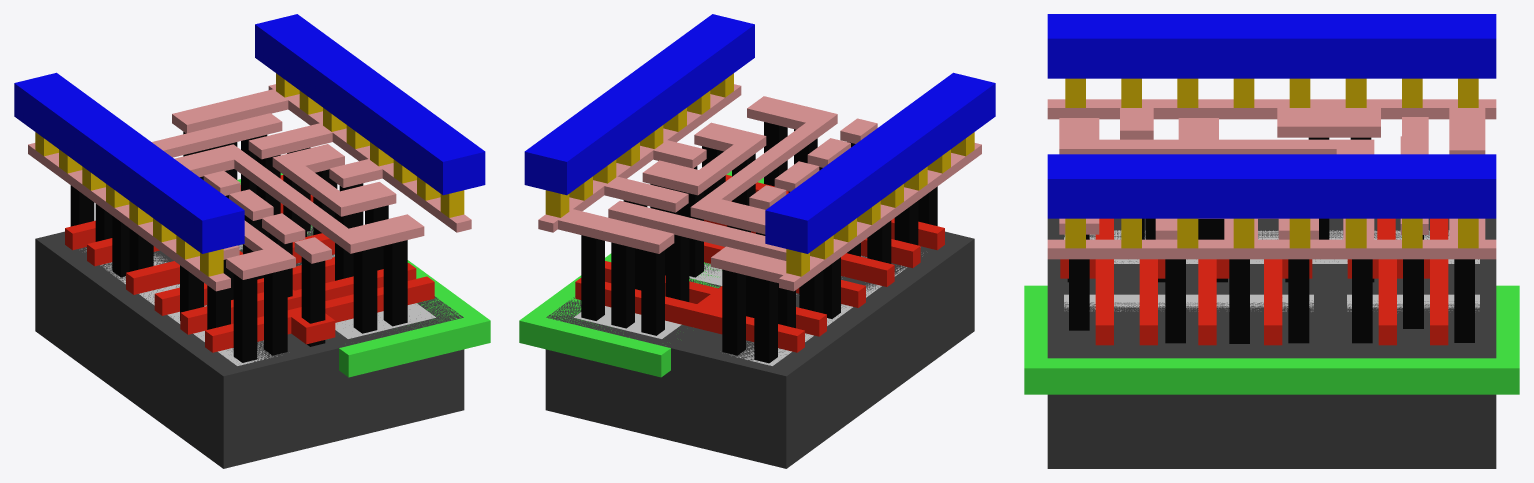
The model's file is sky130_fd_sc_hd__a211o_2.obj.
The picture shows the model from 3 angles, left to right: view 1: azimuth 30°, elevation 25°; view 2: azimuth 150°, elevation 25°; view 3: azimuth 270°, elevation 25°; orthographic projection. The views are drawn at different scales.
Visible parts, largest first — view 1: subs, metal1, li, licon, poly, nwell, mcon, tap, diff; view 2: subs, metal1, li, licon, poly, nwell, mcon, tap, diff; view 3: metal1, subs, li, nwell, licon, poly, mcon, tap, diff.
Boxes of the visible parts, box(x1,y1,x2,y2) form: subs: box(35, 225, 464, 468); metal1: box(14, 14, 485, 253); li: box(28, 84, 471, 291); licon: box(70, 132, 407, 362); poly: box(65, 175, 434, 352); nwell: box(237, 173, 490, 377); mcon: box(35, 73, 464, 276); tap: box(238, 227, 435, 338); diff: box(81, 248, 277, 365); subs: box(545, 231, 974, 468); metal1: box(524, 14, 995, 253); li: box(538, 84, 981, 291); licon: box(581, 122, 937, 363); poly: box(575, 174, 944, 352); nwell: box(519, 171, 763, 377); mcon: box(545, 73, 974, 276); tap: box(574, 263, 722, 338); diff: box(729, 253, 923, 365); metal1: box(1047, 14, 1496, 218); subs: box(1047, 218, 1496, 468); li: box(1047, 99, 1496, 259); nwell: box(1024, 285, 1519, 394); licon: box(1067, 137, 1474, 343); poly: box(1060, 218, 1448, 345); mcon: box(1065, 78, 1478, 248); tap: box(1064, 294, 1479, 311); diff: box(1064, 230, 1479, 263).
Bounding box in the file's own units: 3.2 × 2.74 × 4.06.
